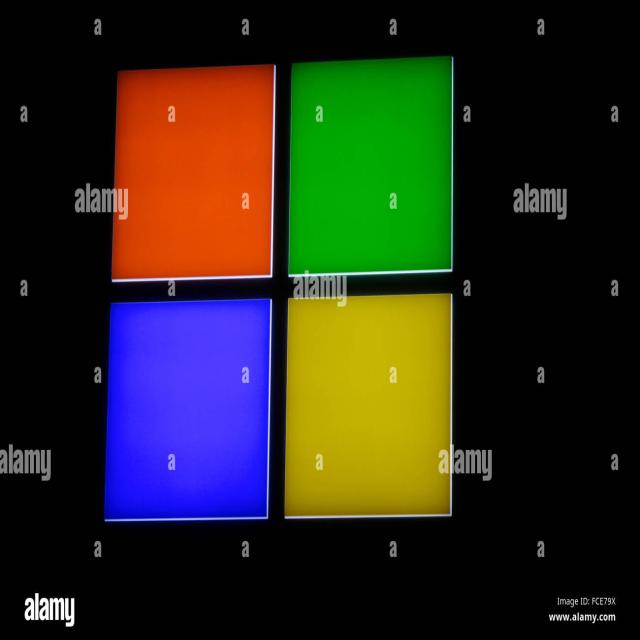microsoft: (104, 55, 456, 517)
